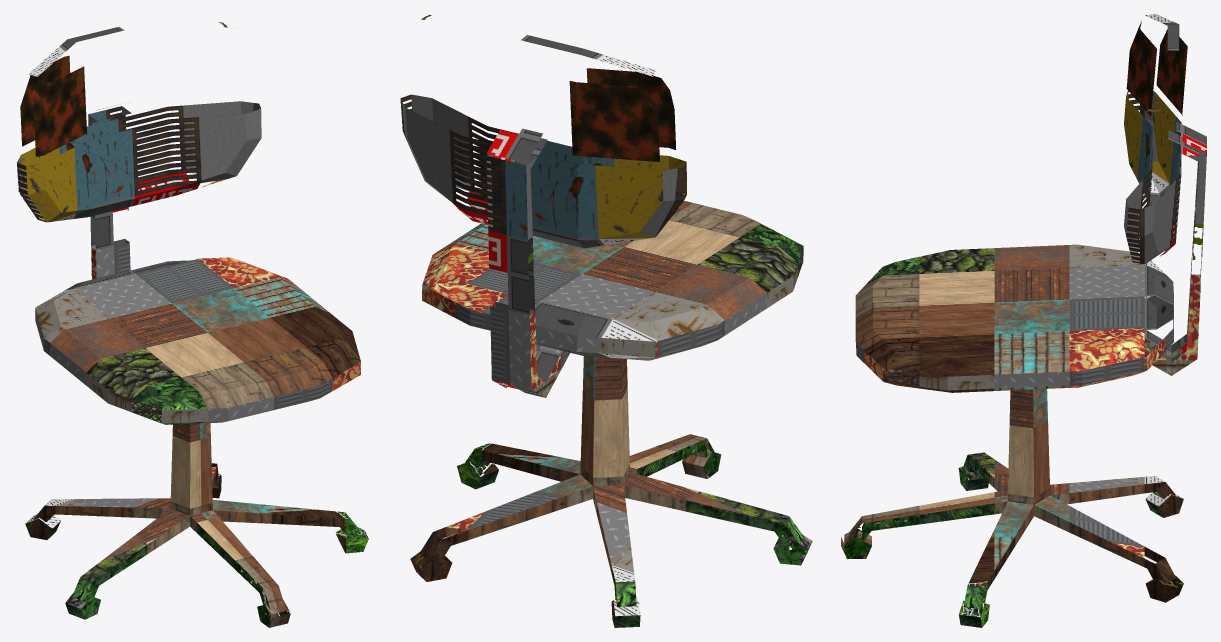
File: OfficeChair.fbx
3 renders of one model, left to right at view 1: azimuth 30°, elevation 25°; view 2: azimuth 150°, elevation 25°; view 3: azimuth 270°, elevation 25°, orthographic. The views are drawn at different scales.
Parts seen in each view (by area): view 1: Cube.001; view 2: Cube.001; view 3: Cube.001.
Boxes of the visible parts, x1=… form: Cube.001: x1=17, y1=22, x2=368, y2=627; Cube.001: x1=400, y1=14, x2=812, y2=627; Cube.001: x1=841, y1=14, x2=1206, y2=627.
Bounding box in the file's own units: 0.6002 × 0.9251 × 0.6091.
